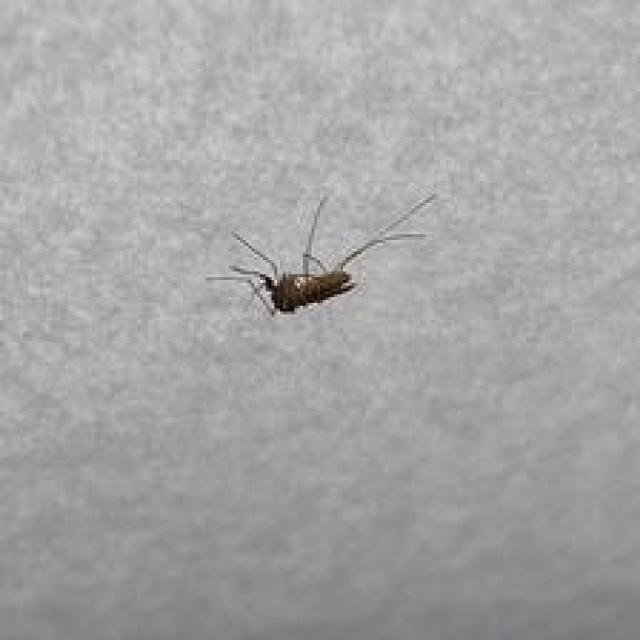Culex: (204, 189, 439, 320)
